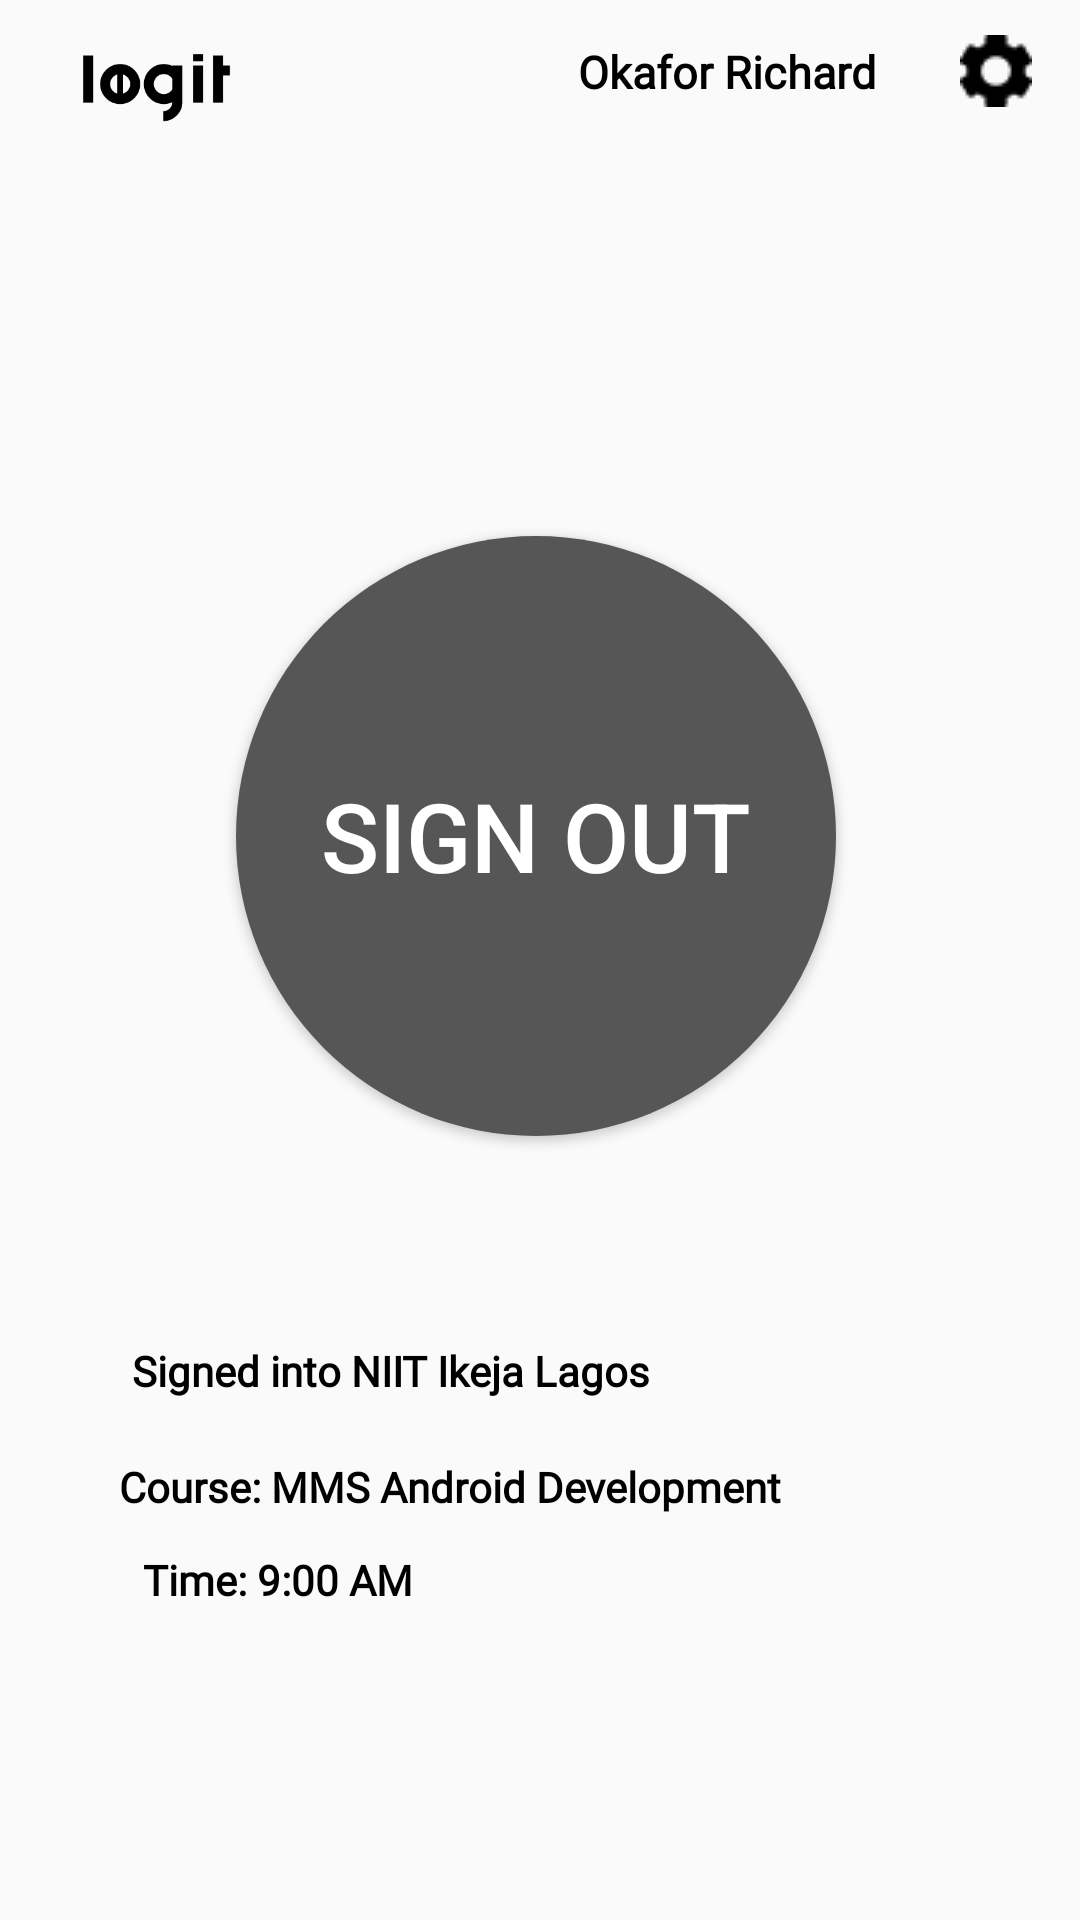

Locate icon controls on the screen. Image size 1080px x 1920px, boxes as (x1, y1, x2, y2).
settings: (960, 35, 1032, 107)
